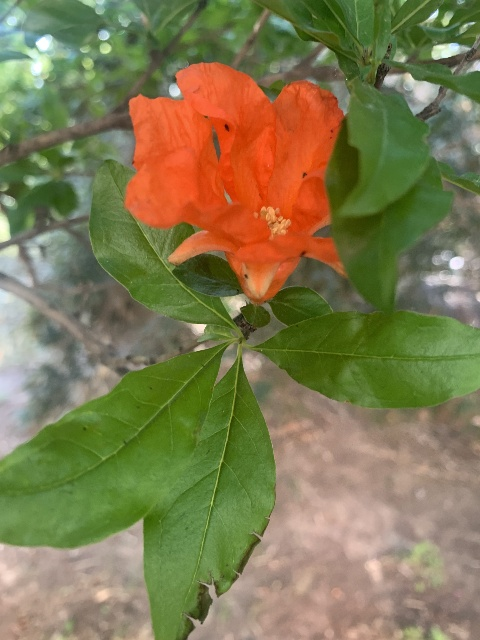flower: (124, 59, 348, 304)
